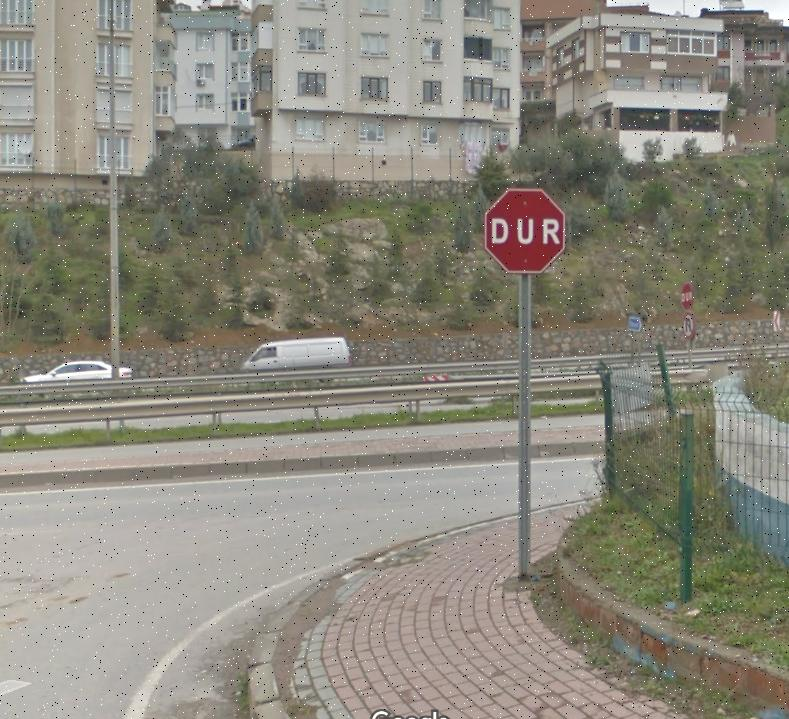stop: (485, 187, 565, 272)
